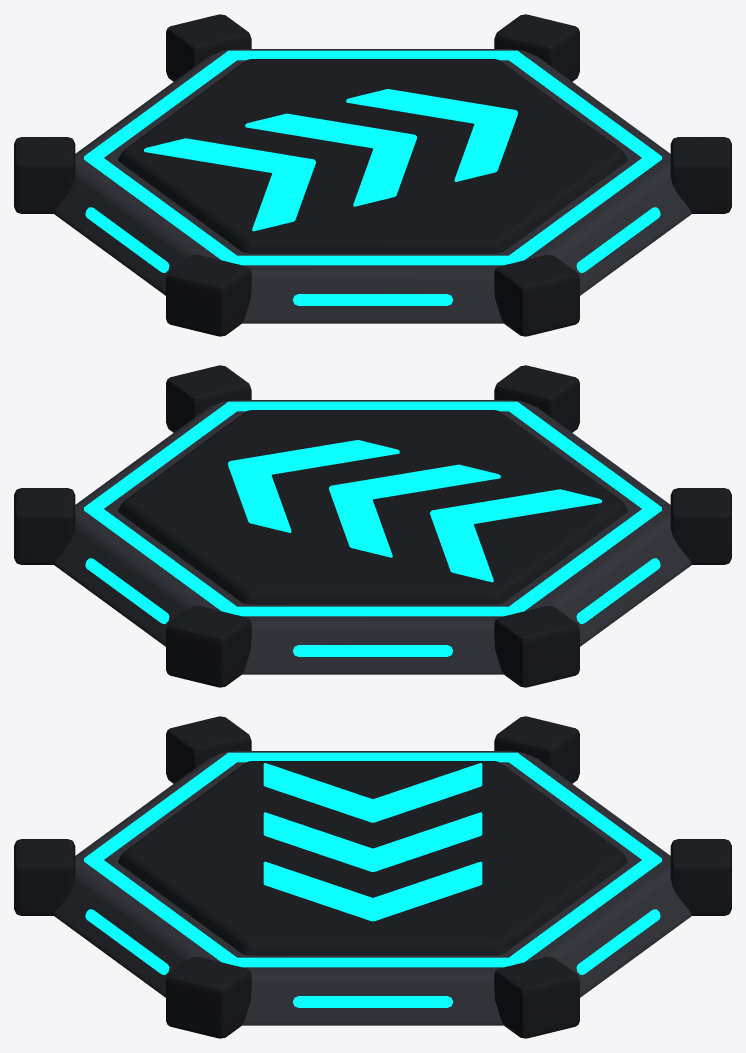
The model's file is LaunchPad.fbx.
3 renders of one model, top to bottom at view 1: azimuth 30°, elevation 25°; view 2: azimuth 150°, elevation 25°; view 3: azimuth 270°, elevation 25°, orthographic.
Parts seen in each view (by area): view 1: Plate, Base_Shell, Base_Dark, Rim_Energy, Arrow2_Energy, Arrow1_Energy, Arrow3_Energy, Side_Energy; view 2: Plate, Base_Shell, Base_Dark, Rim_Energy, Arrow2_Energy, Arrow1_Energy, Arrow3_Energy, Side_Energy; view 3: Plate, Base_Shell, Base_Dark, Rim_Energy, Arrow3_Energy, Arrow1_Energy, Arrow2_Energy, Side_Energy.
Part boxes in pixels (<box>): Plate: <box>118,59,627,253</box>; Base_Shell: <box>54,49,691,323</box>; Base_Dark: <box>14,14,731,336</box>; Rim_Energy: <box>84,50,661,265</box>; Arrow2_Energy: <box>245,113,416,206</box>; Arrow1_Energy: <box>144,138,315,231</box>; Arrow3_Energy: <box>346,89,517,181</box>; Side_Energy: <box>85,207,660,305</box>; Plate: <box>118,410,627,604</box>; Base_Shell: <box>54,400,691,674</box>; Base_Dark: <box>14,365,731,687</box>; Rim_Energy: <box>84,401,661,616</box>; Arrow2_Energy: <box>329,464,500,557</box>; Arrow1_Energy: <box>430,489,601,582</box>; Arrow3_Energy: <box>228,440,399,532</box>; Side_Energy: <box>85,558,660,656</box>; Plate: <box>118,761,627,955</box>; Base_Shell: <box>54,751,691,1025</box>; Base_Dark: <box>14,716,731,1038</box>; Rim_Energy: <box>84,752,661,967</box>; Arrow3_Energy: <box>263,861,482,921</box>; Arrow1_Energy: <box>263,763,482,822</box>; Arrow2_Energy: <box>263,812,482,871</box>; Side_Energy: <box>85,909,660,1007</box>.
Size of the model in its own units: 4.46 by 0.43 by 4.92.
